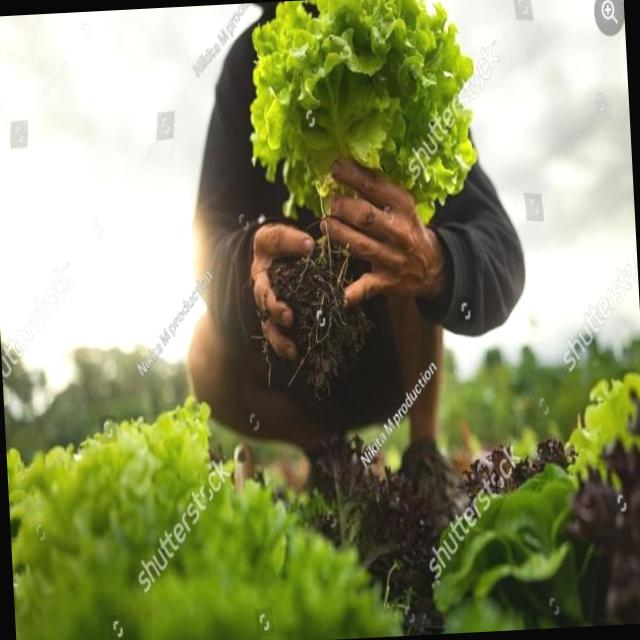Lettuce-Ready-to-Harvest: (6, 402, 414, 640), (249, 0, 478, 231)
